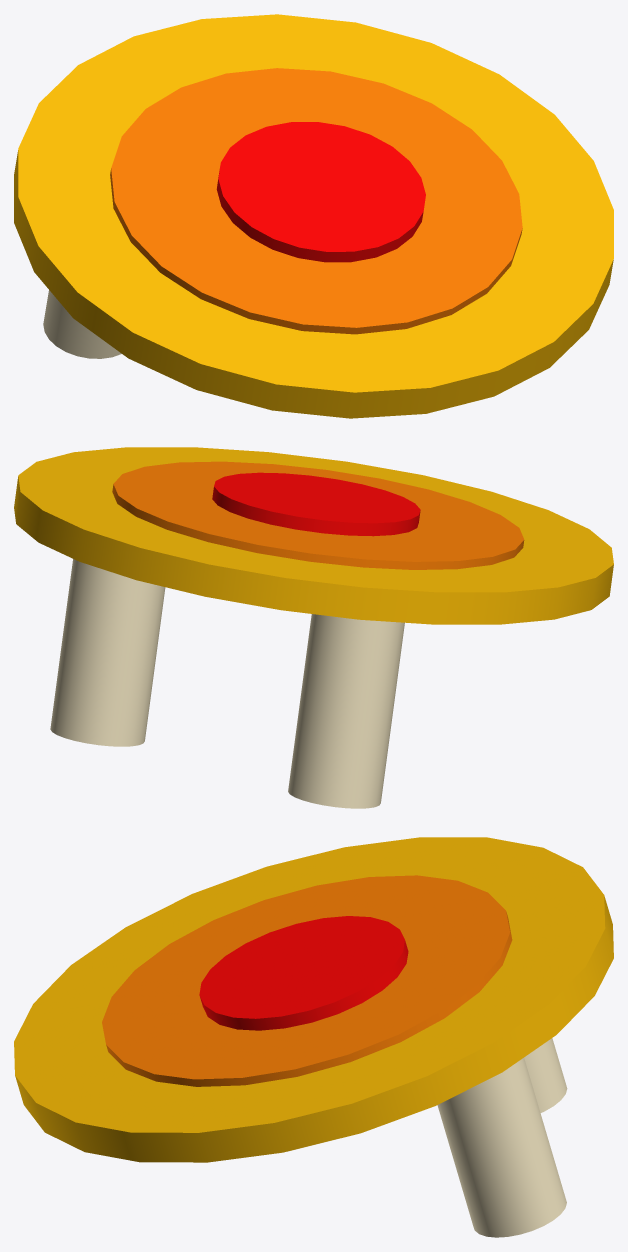
The model's file is Target.fbx.
3 renders of one model, top to bottom at view 1: azimuth 30°, elevation 25°; view 2: azimuth 150°, elevation 25°; view 3: azimuth 270°, elevation 25°, orthographic. The views are drawn at different scales.
Visible parts, largest first — view 1: Model; view 2: Model; view 3: Model.
Boxes of the visible parts, left/top/right/bottom form: Model: left=14, top=14, right=613, bottom=418; Model: left=14, top=447, right=613, bottom=808; Model: left=14, top=837, right=613, bottom=1237.
Bounding box in the file's own units: 308 × 144 × 302.
